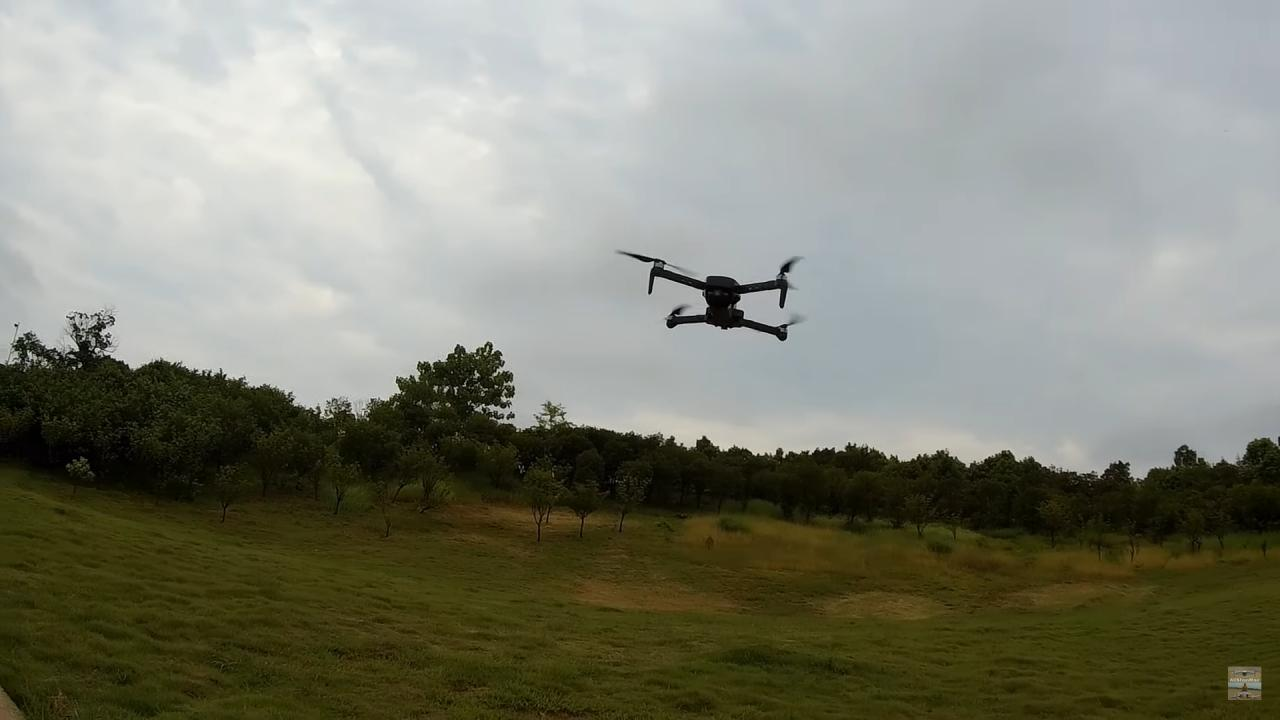Drone: (606, 234, 824, 359)
